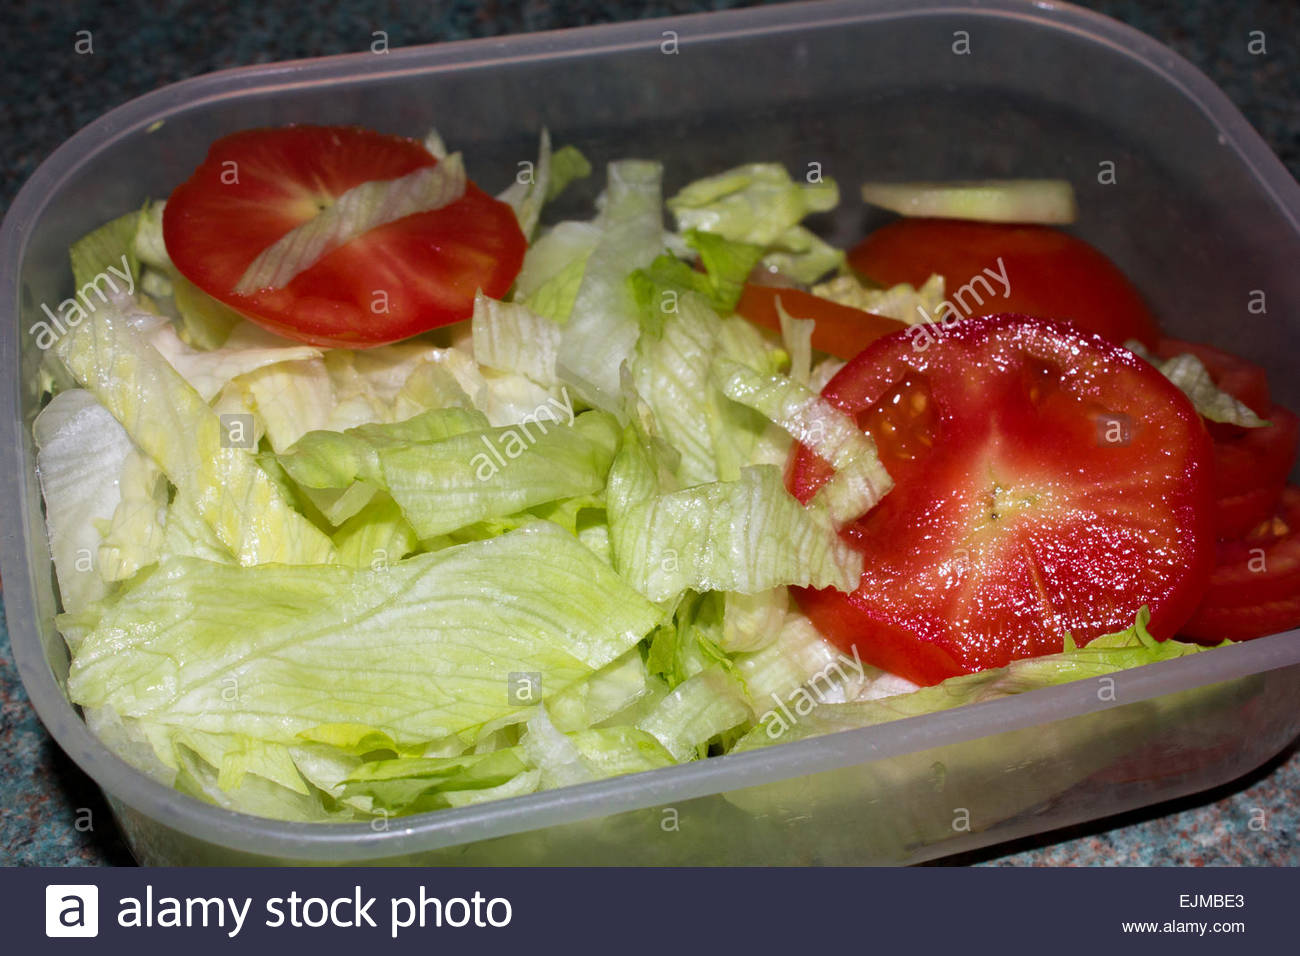chopped lettuce: (72, 205, 788, 818)
